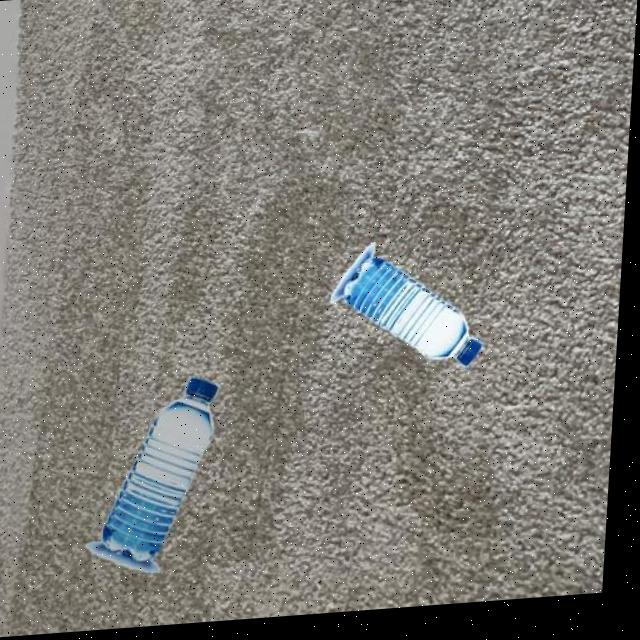bottle: (89, 378, 227, 582), (329, 240, 495, 385)
